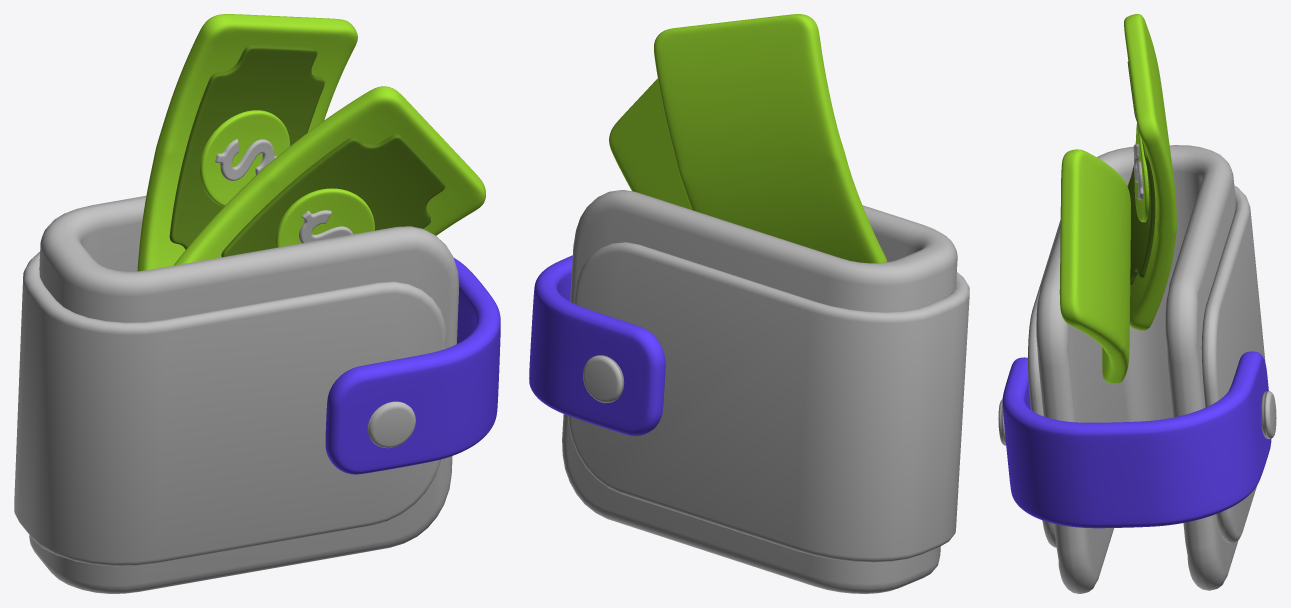
The model's file is payment-animated-3d-icon-1432996586728.glb.
3 views of the same model, side by side, from view 1: azimuth 30°, elevation 25°; view 2: azimuth 150°, elevation 25°; view 3: azimuth 270°, elevation 25° (orthographic). The views are drawn at different scales.
Visible parts, largest first — view 1: Outer Wallet.001, Inner Wallet.001, Money.001, Money, Lock.001, Lock 2.001; view 2: Outer Wallet.001, Money.001, Inner Wallet.001, Lock.001, Money, Lock 2.001; view 3: Inner Wallet.001, Lock.001, Money, Money.001, Outer Wallet.001, Lock 2.001.
Part boxes in pixels (left/top/right/bottom): Outer Wallet.001: left=14, top=252, right=446, bottom=566; Inner Wallet.001: left=29, top=196, right=459, bottom=593; Money.001: left=137, top=14, right=357, bottom=271; Money: left=173, top=86, right=485, bottom=265; Lock.001: left=325, top=257, right=500, bottom=474; Lock 2.001: left=367, top=401, right=415, bottom=448; Outer Wallet.001: left=568, top=242, right=969, bottom=562; Money.001: left=654, top=14, right=887, bottom=263; Inner Wallet.001: left=562, top=190, right=957, bottom=593; Lock.001: left=529, top=255, right=665, bottom=436; Money: left=609, top=78, right=690, bottom=209; Lock 2.001: left=583, top=355, right=624, bottom=403; Inner Wallet.001: left=1036, top=145, right=1238, bottom=593; Lock.001: left=1002, top=351, right=1271, bottom=528; Money: left=1059, top=149, right=1130, bottom=383; Money.001: left=1124, top=14, right=1176, bottom=330; Outer Wallet.001: left=1028, top=185, right=1265, bottom=547; Lock 2.001: left=998, top=391, right=1276, bottom=445.
Size of the model in its own units: 2.41 by 2.93 by 1.45.
